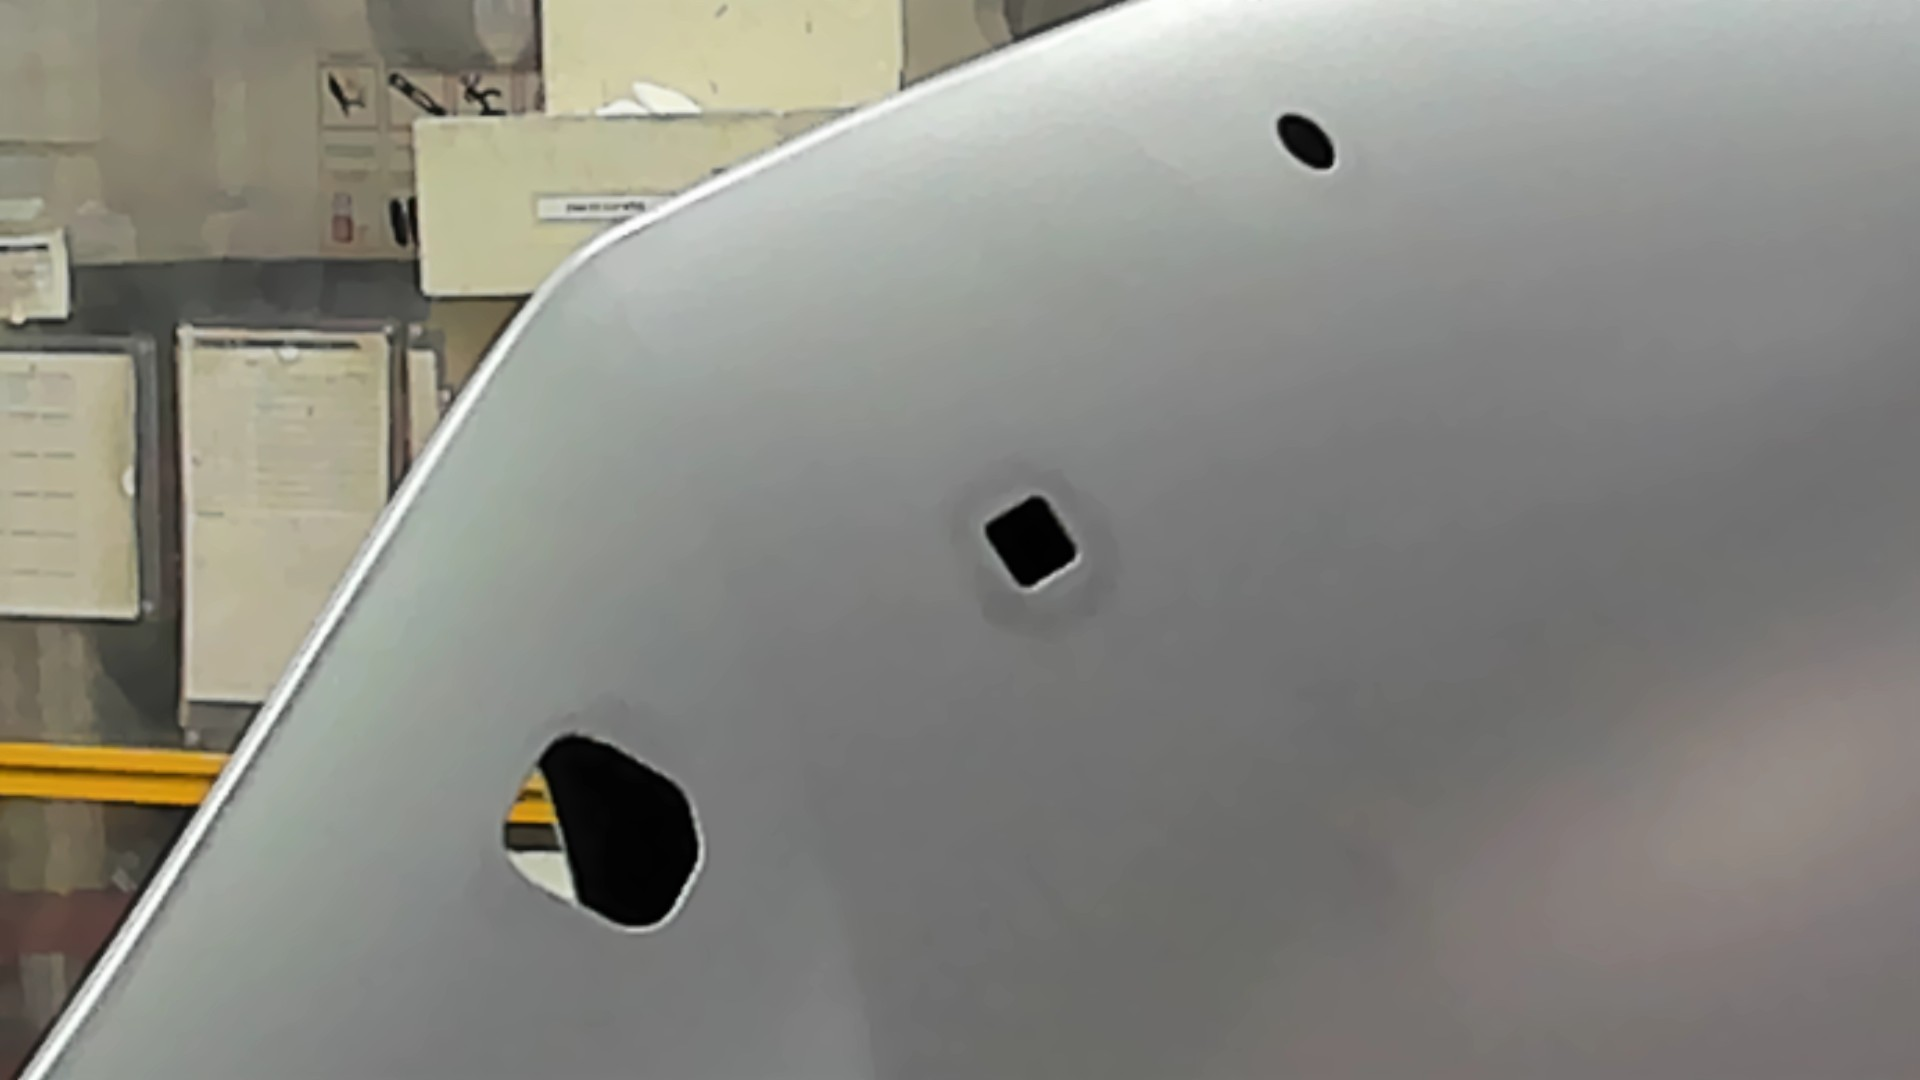chico: (1273, 109, 1337, 175)
grande: (493, 727, 711, 938)
mediano: (977, 489, 1087, 601)
